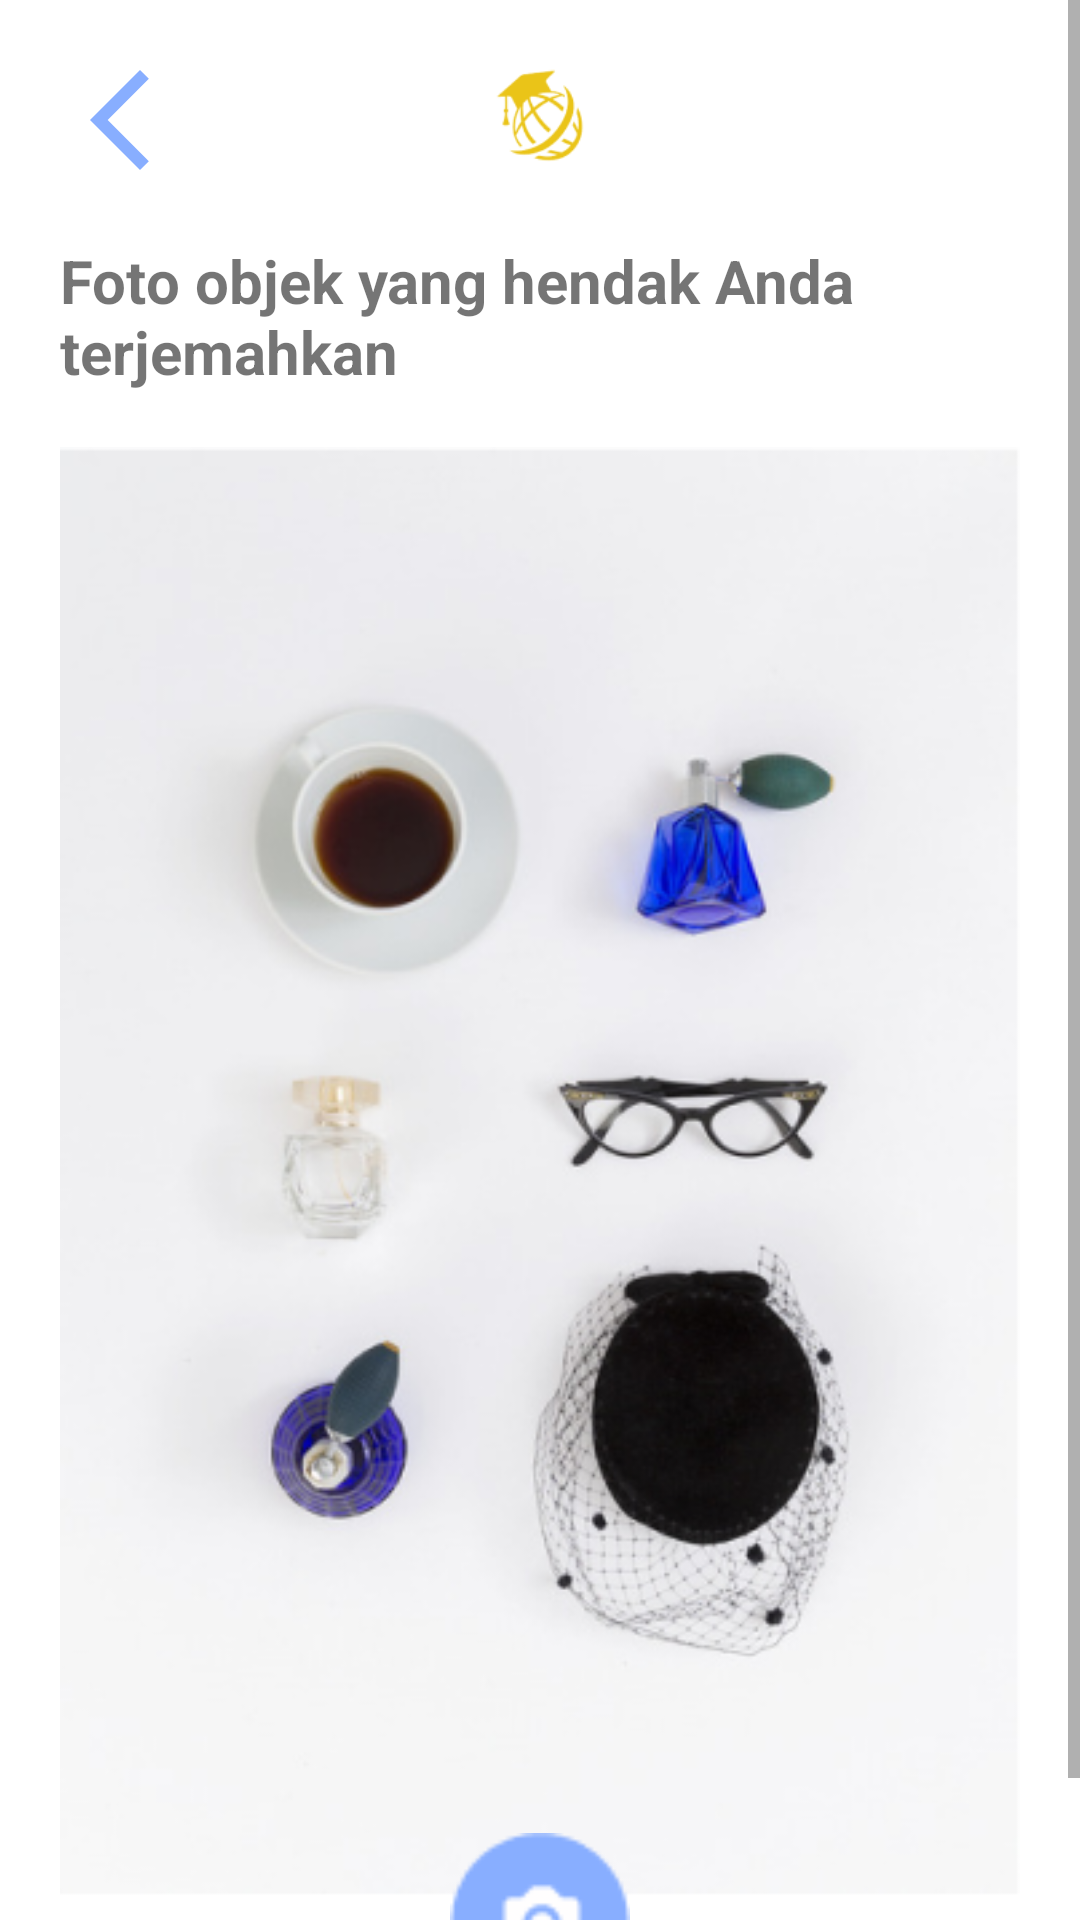

Point at icon controls on the screen. Image size 1080 x 1920, points as (x,y).
arrow left: (119,120)
